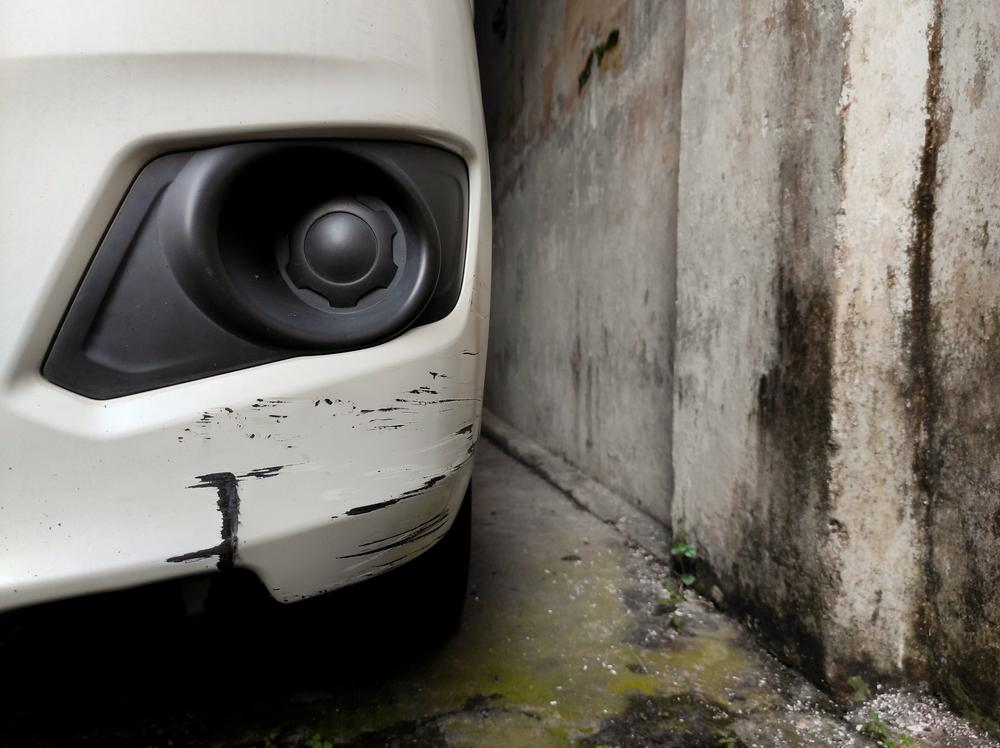scratch: (175, 342, 481, 576)
